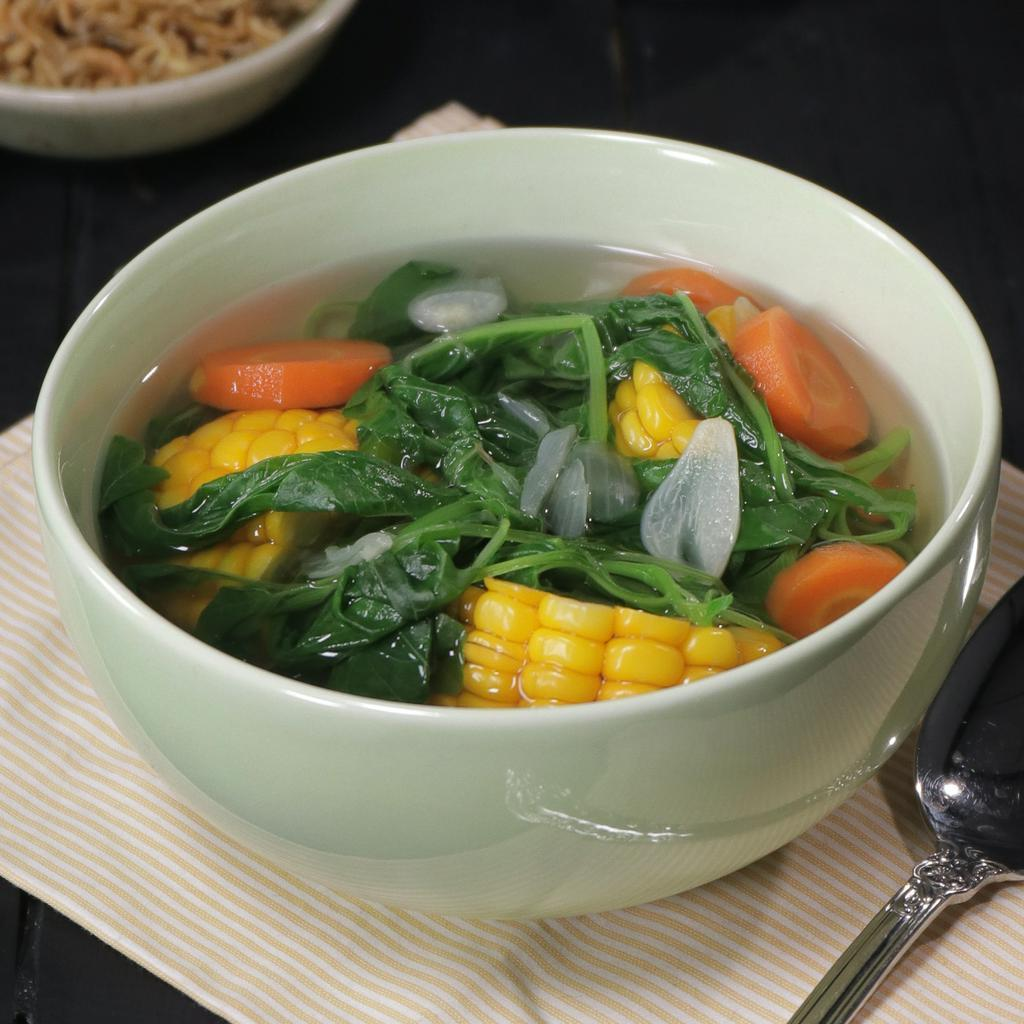Sayur Bayam: (154, 211, 861, 761)
